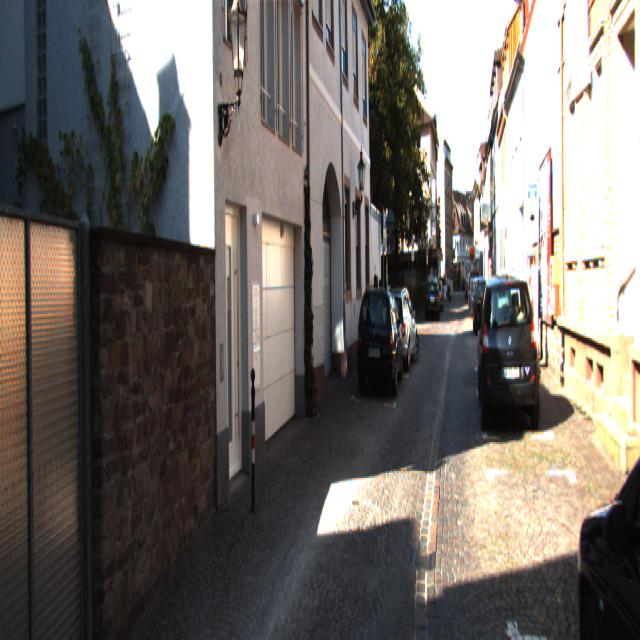Car: (570, 371, 640, 638), (478, 273, 542, 444), (356, 286, 406, 398), (377, 286, 420, 374), (472, 278, 494, 336), (425, 276, 440, 318)
